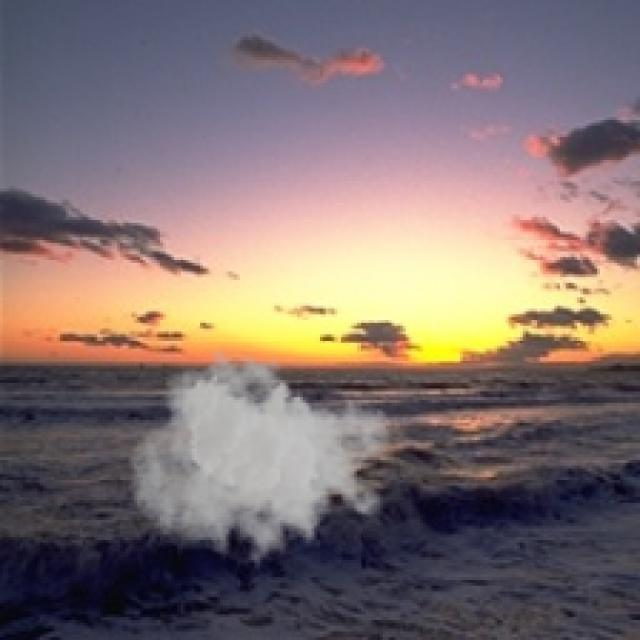Smoke: (128, 348, 394, 580)
